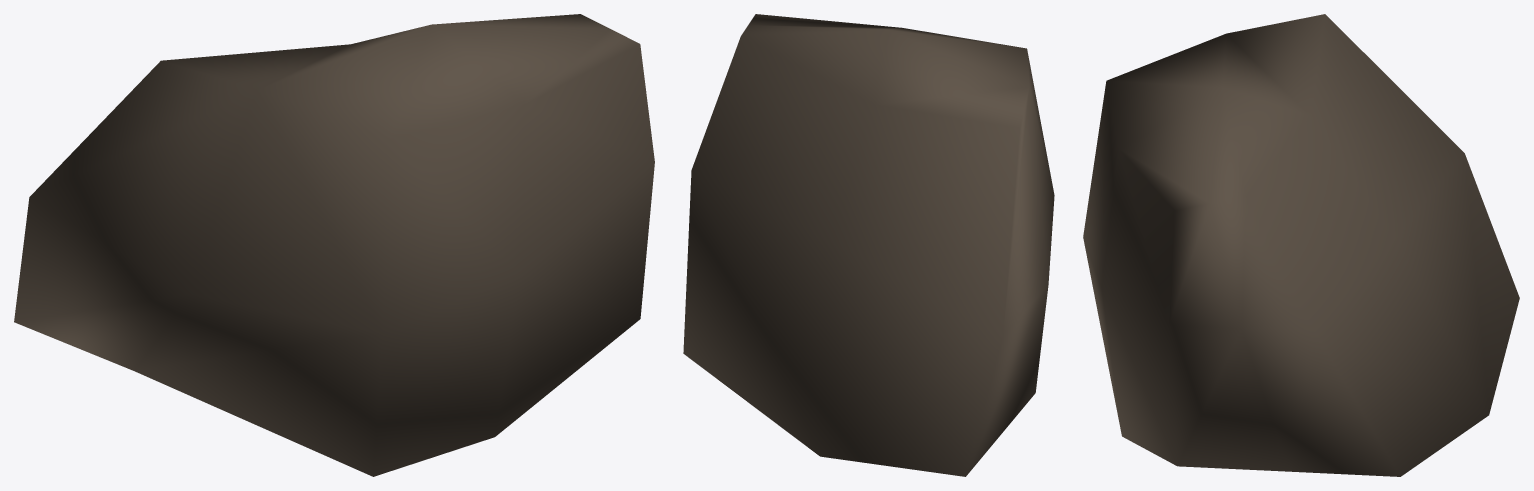
File: ruins4_part (2).fbx
3 renders of one model, left to right at view 1: azimuth 30°, elevation 25°; view 2: azimuth 150°, elevation 25°; view 3: azimuth 270°, elevation 25°, orthographic. The views are drawn at different scales.
Visible parts, largest first — view 1: ruins4_part (2); view 2: ruins4_part (2); view 3: ruins4_part (2).
Boxes of the visible parts, x1,y1,x2,y2 form: ruins4_part (2): (14, 14, 654, 476); ruins4_part (2): (683, 14, 1054, 476); ruins4_part (2): (1083, 14, 1519, 476).
Size of the model in its own units: 31.27 by 26.63 by 27.66.
